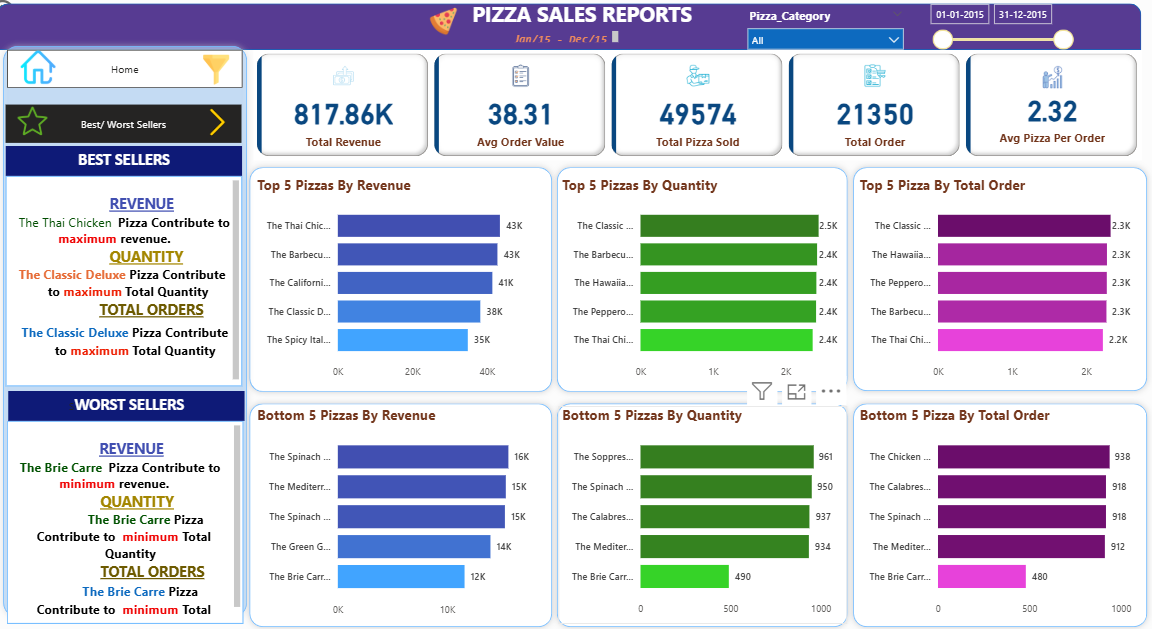

What the dashboard file says about the page in this screenshot:
{"tool":"powerbi","page":{"name":"Best/ Worst Sellers","canvas":[1500,820],"ordinal":1},"visuals":[{"type":"actionButton","box":[0,0,100,40],"z":0},{"type":"cardVisual","fields":{"Data":["Pizza_Sales.Total Revenue","Pizza_Sales.Avg Order Value","Pizza_Sales.Total Pizza Sold","Pizza_Sales.Total Order","Pizza_Sales.Avg Pizza Per Order"]},"box":[342.6,69.6,1143.4,142.1],"z":1000},{"type":"shape","box":[12.5,9.7,1472.1,59.9],"z":2000},{"type":"textbox","box":[618.3,0,302.2,47.4],"z":3000},{"type":"textbox","box":[673.8,40.2,143.1,24.1],"z":4000},{"type":"image","box":[557.1,9.7,61.3,46],"z":5000},{"type":"shape","box":[330.1,211.7,405.3,305],"z":6000},{"type":"shape","box":[12.9,56.3,329.7,751],"z":7000},{"type":"textbox","box":[24.1,193,303.9,38.6],"z":8000},{"type":"textbox","box":[24.1,231.6,303.9,270.2],"z":9000},{"type":"textbox","box":[27.3,508.1,303.9,38.6],"z":10000},{"type":"textbox","box":[25.7,546.7,303.9,260.5],"z":11000},{"type":"slicer","fields":{"Values":["Pizza_Sales.order_date"]},"box":[1201.9,0,204.7,69.6],"z":12000},{"type":"slicer","fields":{"Values":["Pizza_Sales.pizza_category"]},"box":[967.9,9.7,221.4,59.9],"z":13000},{"type":"shape","box":[725.6,211.7,389.9,305],"z":14000},{"type":"shape","box":[1106.4,212.3,394,303.9],"z":15000},{"type":"shape","box":[330.1,516.7,405.3,303.6],"z":16000},{"type":"shape","box":[725.6,516.7,389.9,303.6],"z":17000},{"type":"shape","box":[1105.8,516.7,394.1,303.6],"z":18000},{"type":"barChart","title":"Top 5 Pizzas By Revenue ","fields":{"Category":["Pizza_Sales.pizza_name"],"Y":["Pizza_Sales.Total Revenue"]},"box":[342.6,231.2,383,270.2],"z":19000},{"type":"barChart","title":"Bottom 5 Pizzas By Revenue ","fields":{"Category":["Pizza_Sales.pizza_name"],"Y":["Pizza_Sales.Total Revenue"]},"box":[342.6,527.8,383,279.9],"z":20000},{"type":"barChart","title":"Top 5 Pizzas By Quantity ","fields":{"Category":["Pizza_Sales.pizza_name"],"Y":["Pizza_Sales.Total Pizza Sold"]},"box":[734.9,231.6,371.5,270.2],"z":21000},{"type":"barChart","title":"Bottom 5 Pizzas By Quantity ","fields":{"Category":["Pizza_Sales.pizza_name"],"Y":["Pizza_Sales.Total Pizza Sold"]},"box":[734.9,527.4,371.5,279.8],"z":22000},{"type":"barChart","title":"Top 5 Pizza By Total Order","fields":{"Category":["Pizza_Sales.pizza_name"],"Y":["Pizza_Sales.Total Order"]},"box":[1117.6,231.6,371.5,270.2],"z":23000},{"type":"barChart","title":"Bottom 5 Pizza By Total Order","fields":{"Category":["Pizza_Sales.pizza_name"],"Y":["Pizza_Sales.Total Order"]},"box":[1117.6,527.4,371.5,279.8],"z":24000},{"type":"pageNavigator","box":[25.7,69.1,303.9,49.9],"z":25000},{"type":"pageNavigator","box":[24.1,139.9,303.9,49.9],"z":26000},{"type":"image","box":[265.3,139.9,62.7,45],"z":27000},{"type":"image","box":[27.3,64.3,77.2,54.7],"z":28000},{"type":"image","box":[25.7,136.7,65.9,48.2],"z":29000},{"type":"image","box":[258.9,70.8,72.4,48.2],"z":30000}]}

Visuals, with their boxes in screenshot pixels (x1, y1, x2, y2), scaled from the page's 1500x820 canvas onto the 1152x629 screenshot:
actionButton: 0, 0, 77, 31
cardVisual - Pizza_Sales.Total Revenue x Pizza_Sales.Avg Order Value: 263, 53, 1141, 162
shape: 10, 7, 1140, 53
textbox: 475, 0, 707, 36
textbox: 517, 31, 627, 49
image: 428, 7, 475, 43
shape: 254, 162, 565, 396
shape: 10, 43, 263, 619
textbox: 19, 148, 252, 178
textbox: 19, 178, 252, 385
textbox: 21, 390, 254, 419
textbox: 20, 419, 253, 619
slicer - Pizza_Sales.order_date: 923, 0, 1080, 53
slicer - Pizza_Sales.pizza_category: 743, 7, 913, 53
shape: 557, 162, 857, 396
shape: 850, 163, 1151, 396
shape: 254, 396, 565, 628
shape: 557, 396, 857, 628
shape: 849, 396, 1151, 628
"Top 5 Pizzas By Revenue " barChart: 263, 177, 557, 385
"Bottom 5 Pizzas By Revenue " barChart: 263, 405, 557, 620
"Top 5 Pizzas By Quantity " barChart: 564, 178, 850, 385
"Bottom 5 Pizzas By Quantity " barChart: 564, 405, 850, 619
"Top 5 Pizza By Total Order" barChart: 858, 178, 1144, 385
"Bottom 5 Pizza By Total Order" barChart: 858, 405, 1144, 619
pageNavigator: 20, 53, 253, 91
pageNavigator: 19, 107, 252, 146
image: 204, 107, 252, 142
image: 21, 49, 80, 91
image: 20, 105, 70, 142
image: 199, 54, 254, 91
